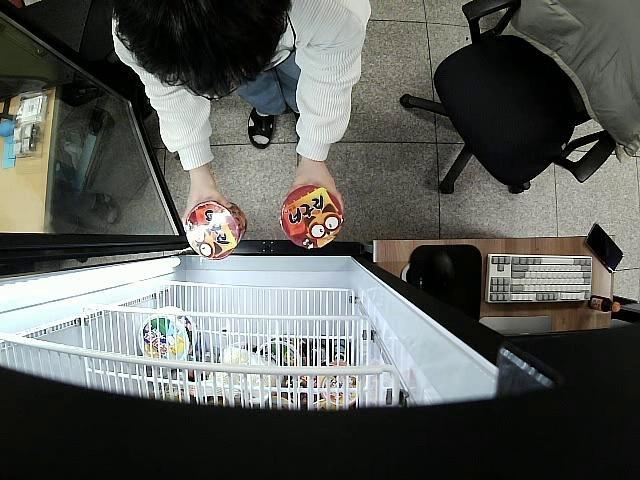05_nuguri_L: (282, 184, 343, 246), (186, 200, 247, 260)
